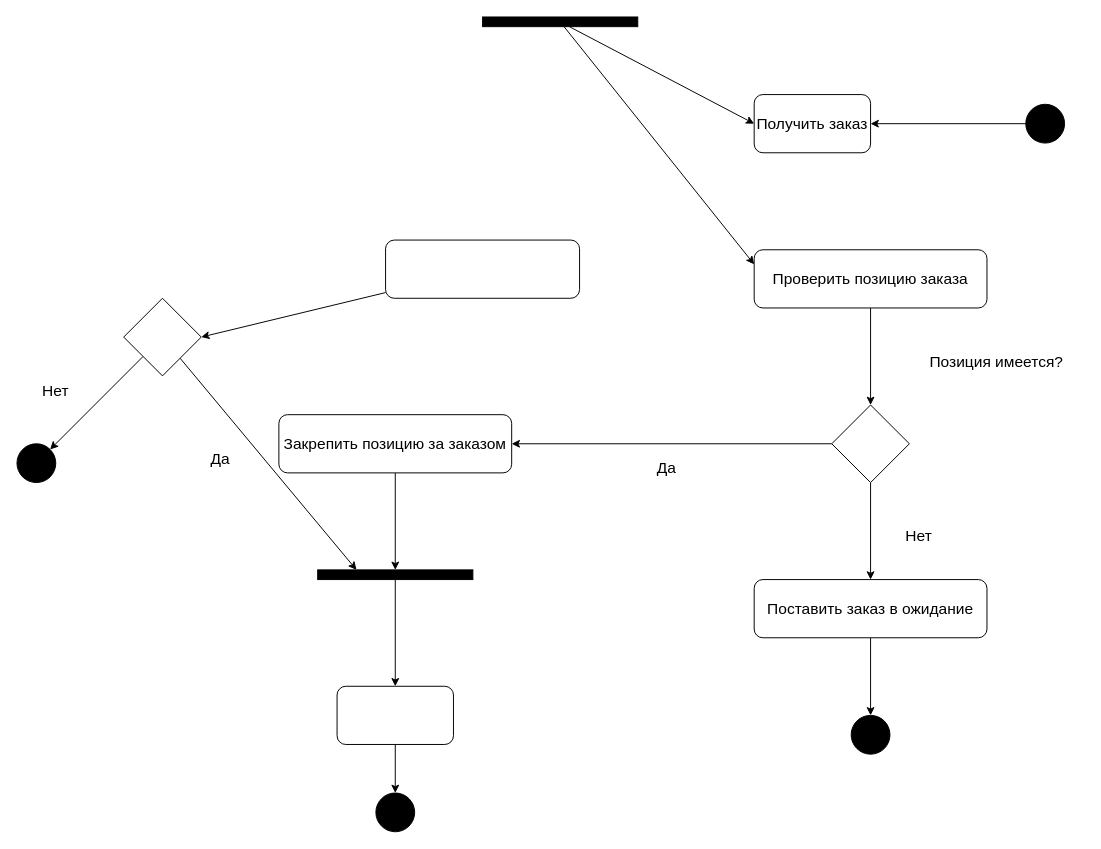
The diagram is 1101 pixels wide and 849 high, and some of its shapes have lost their labels. The shapes that lost their labels are listed below. From the top down, each one's centre as x and y in pixels, then its label:
point (482, 268): Проверить платеж
point (394, 714): Скомплектовать заказ
